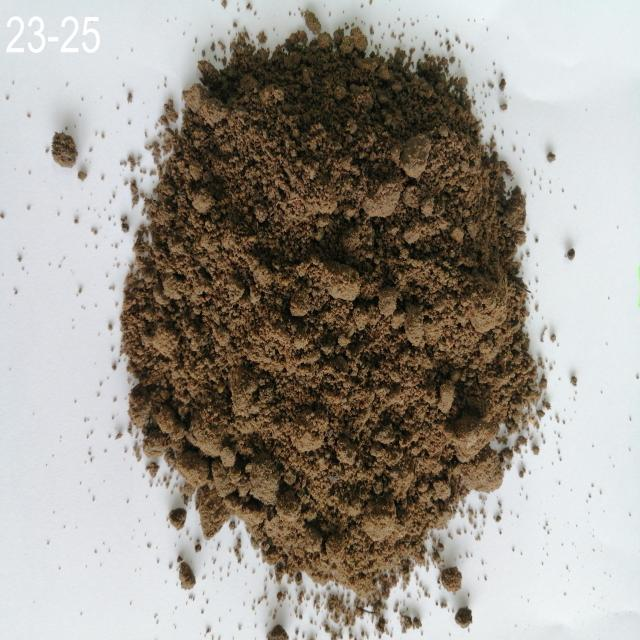soil: (192, 89, 479, 487)
